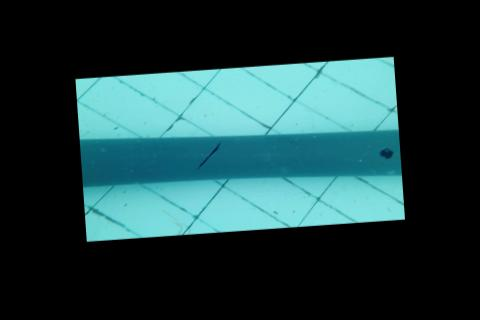kebocoran: (376, 147, 393, 161)
keretakan: (190, 140, 224, 170)
